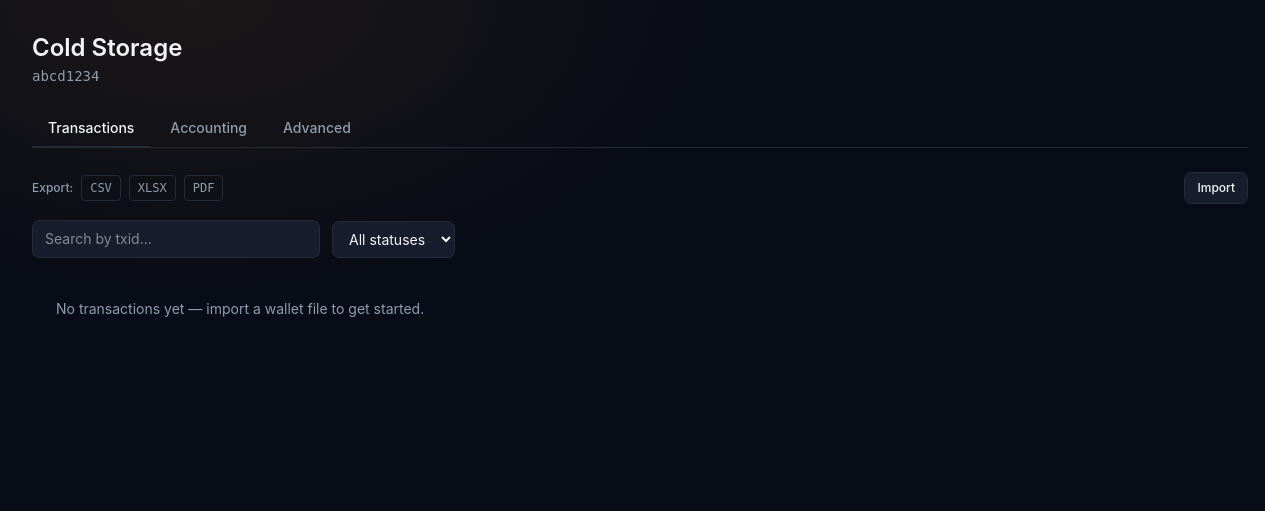
Test: WalletPage › starts a blockchain sync
Click the tab "Advanced".
click(317, 129)  # box [267, 110, 367, 148]
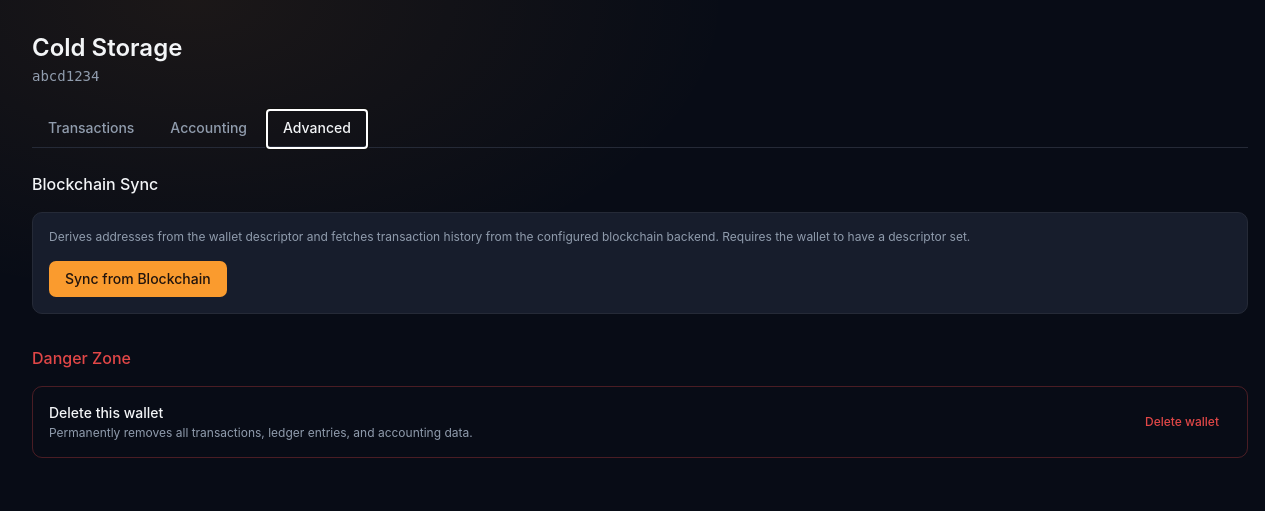
Click the button "Sync from Blockchain".
click(138, 279)  # box [49, 261, 227, 297]
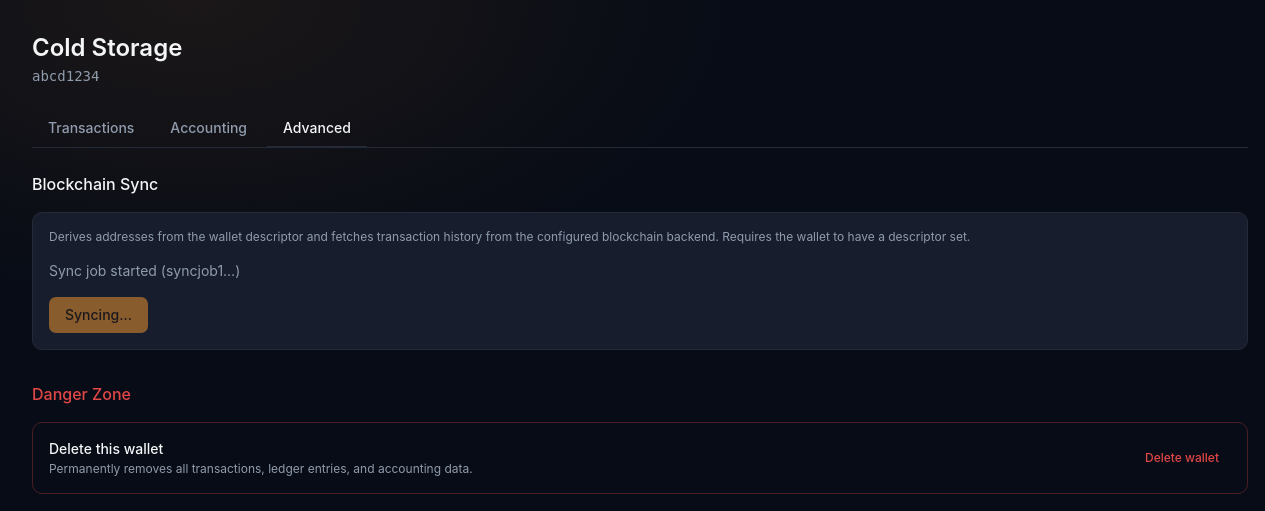
expect the text "Sync job started (syncjob1…)" is shown: met, box [49, 262, 240, 279]
